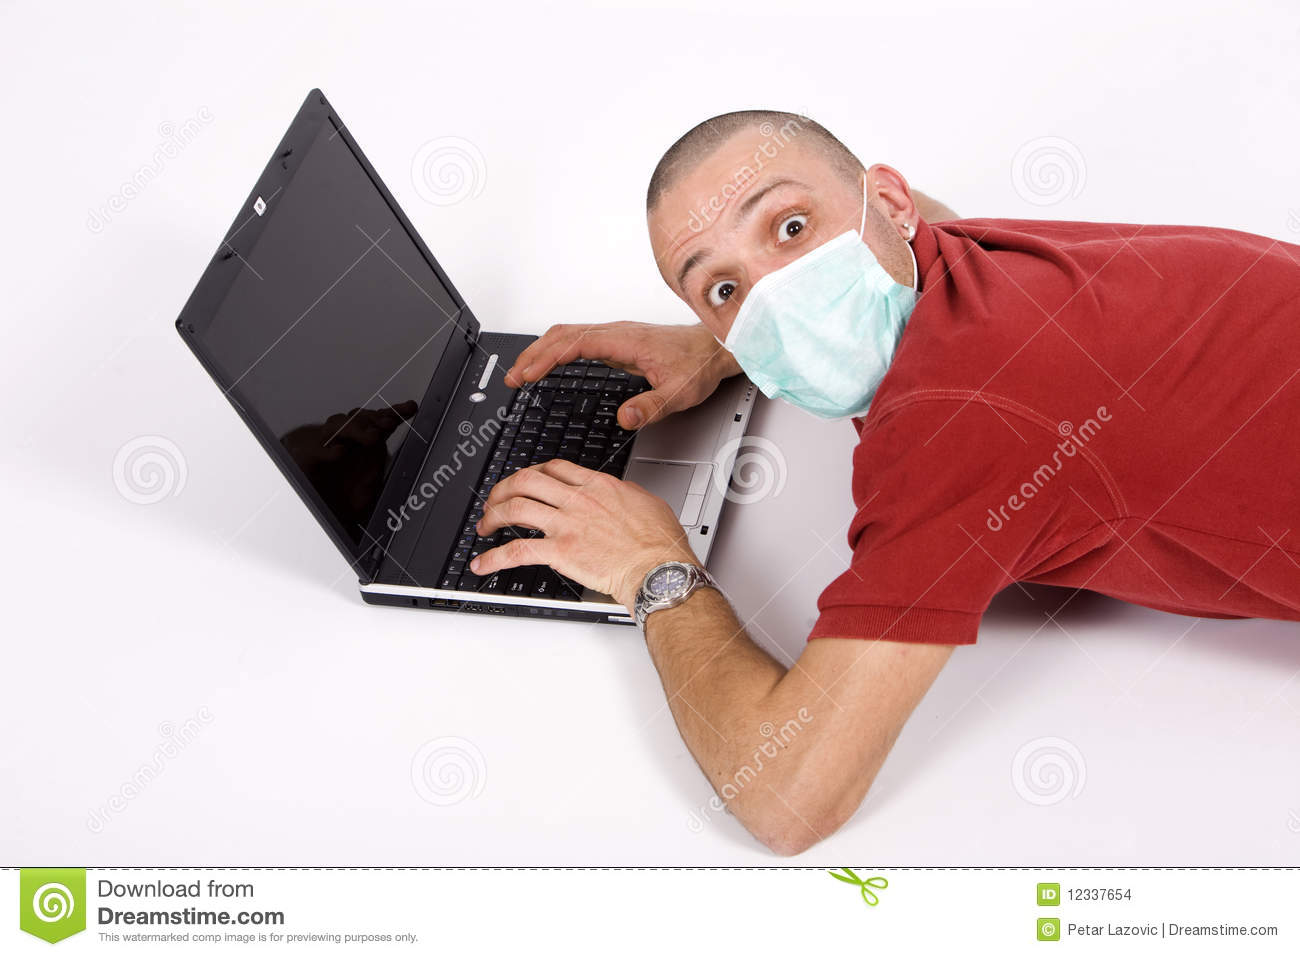mask: (730, 234, 920, 421)
